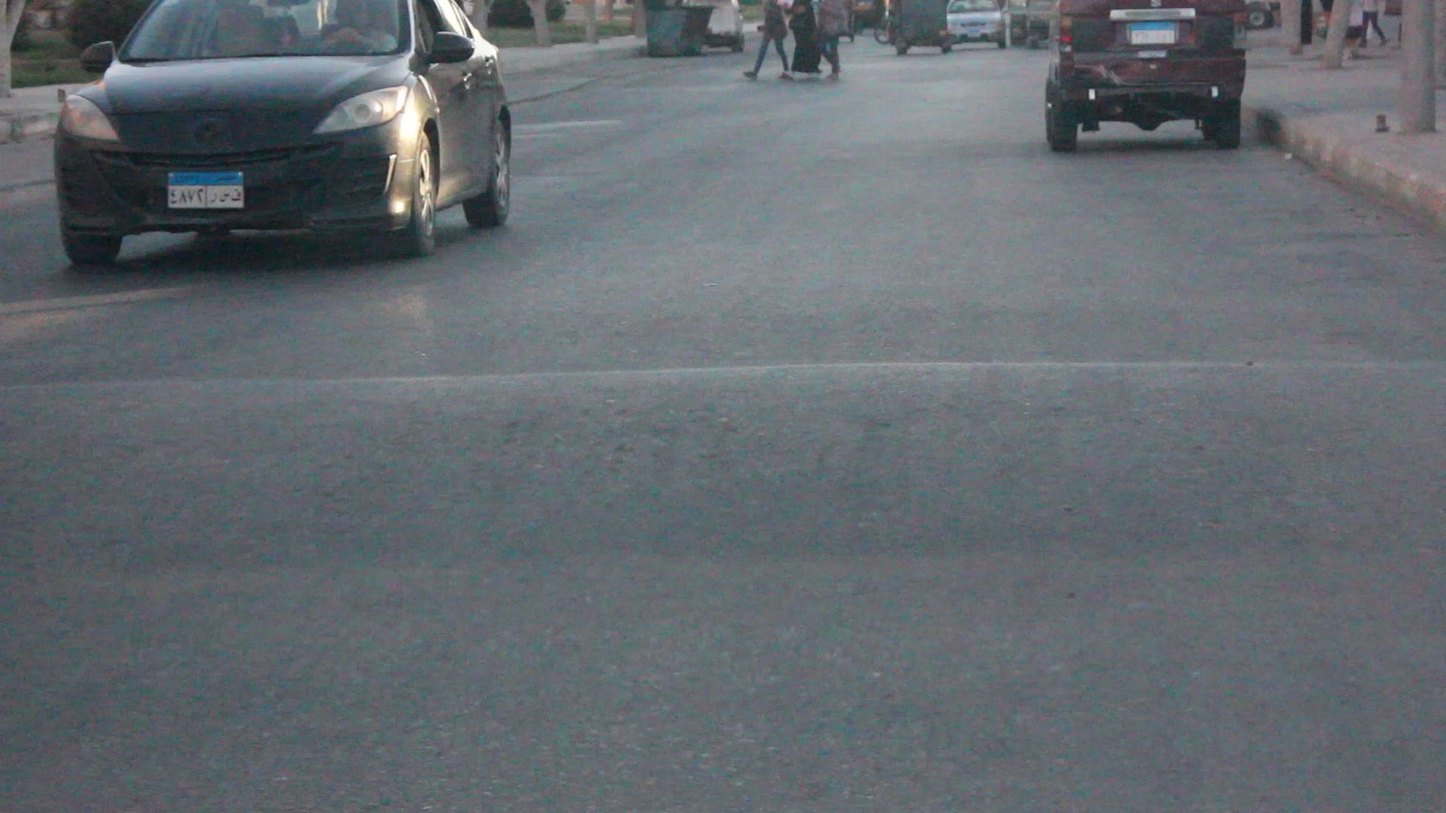Bump: (0, 363, 1445, 564)
